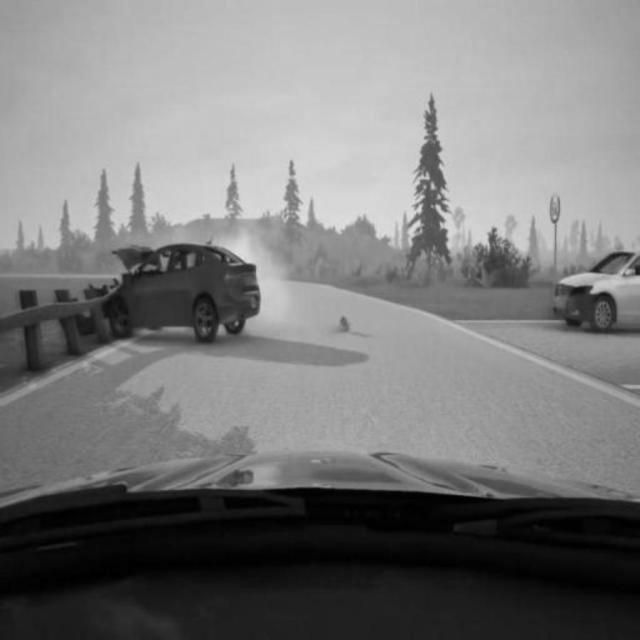accident: (103, 239, 260, 343)
vehicle: (552, 251, 640, 334)
